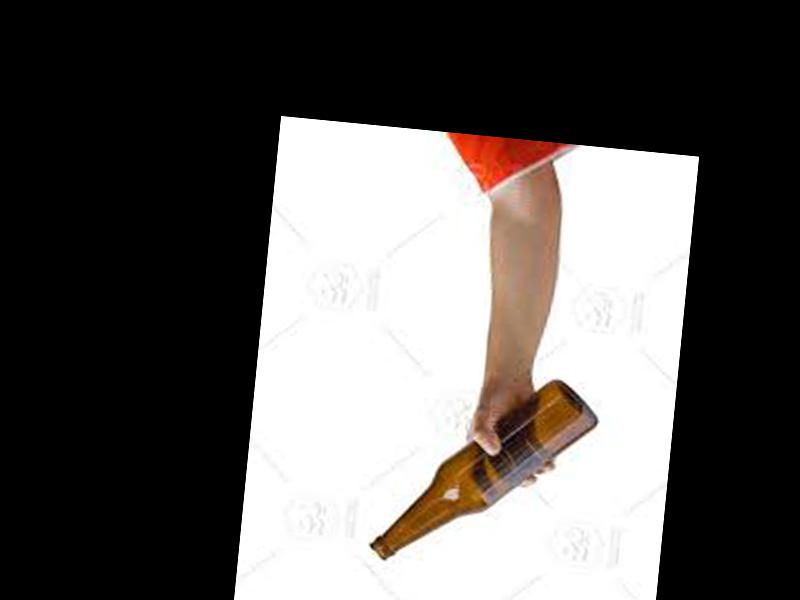Beer: (369, 363, 603, 578)
